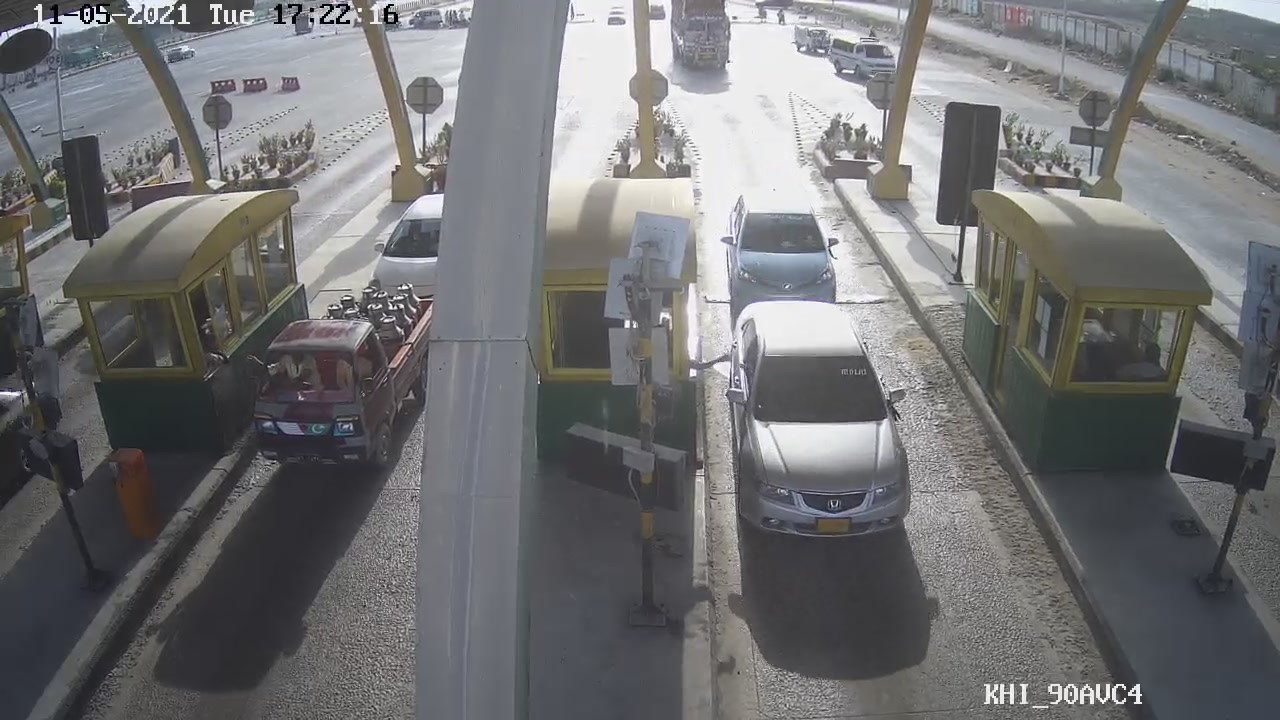F1: (713, 293, 930, 552)
